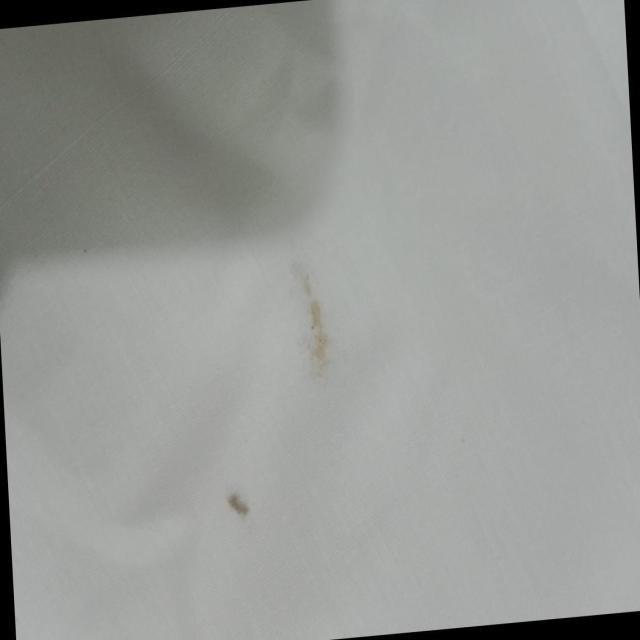stain: (285, 255, 335, 384), (215, 479, 262, 526)
